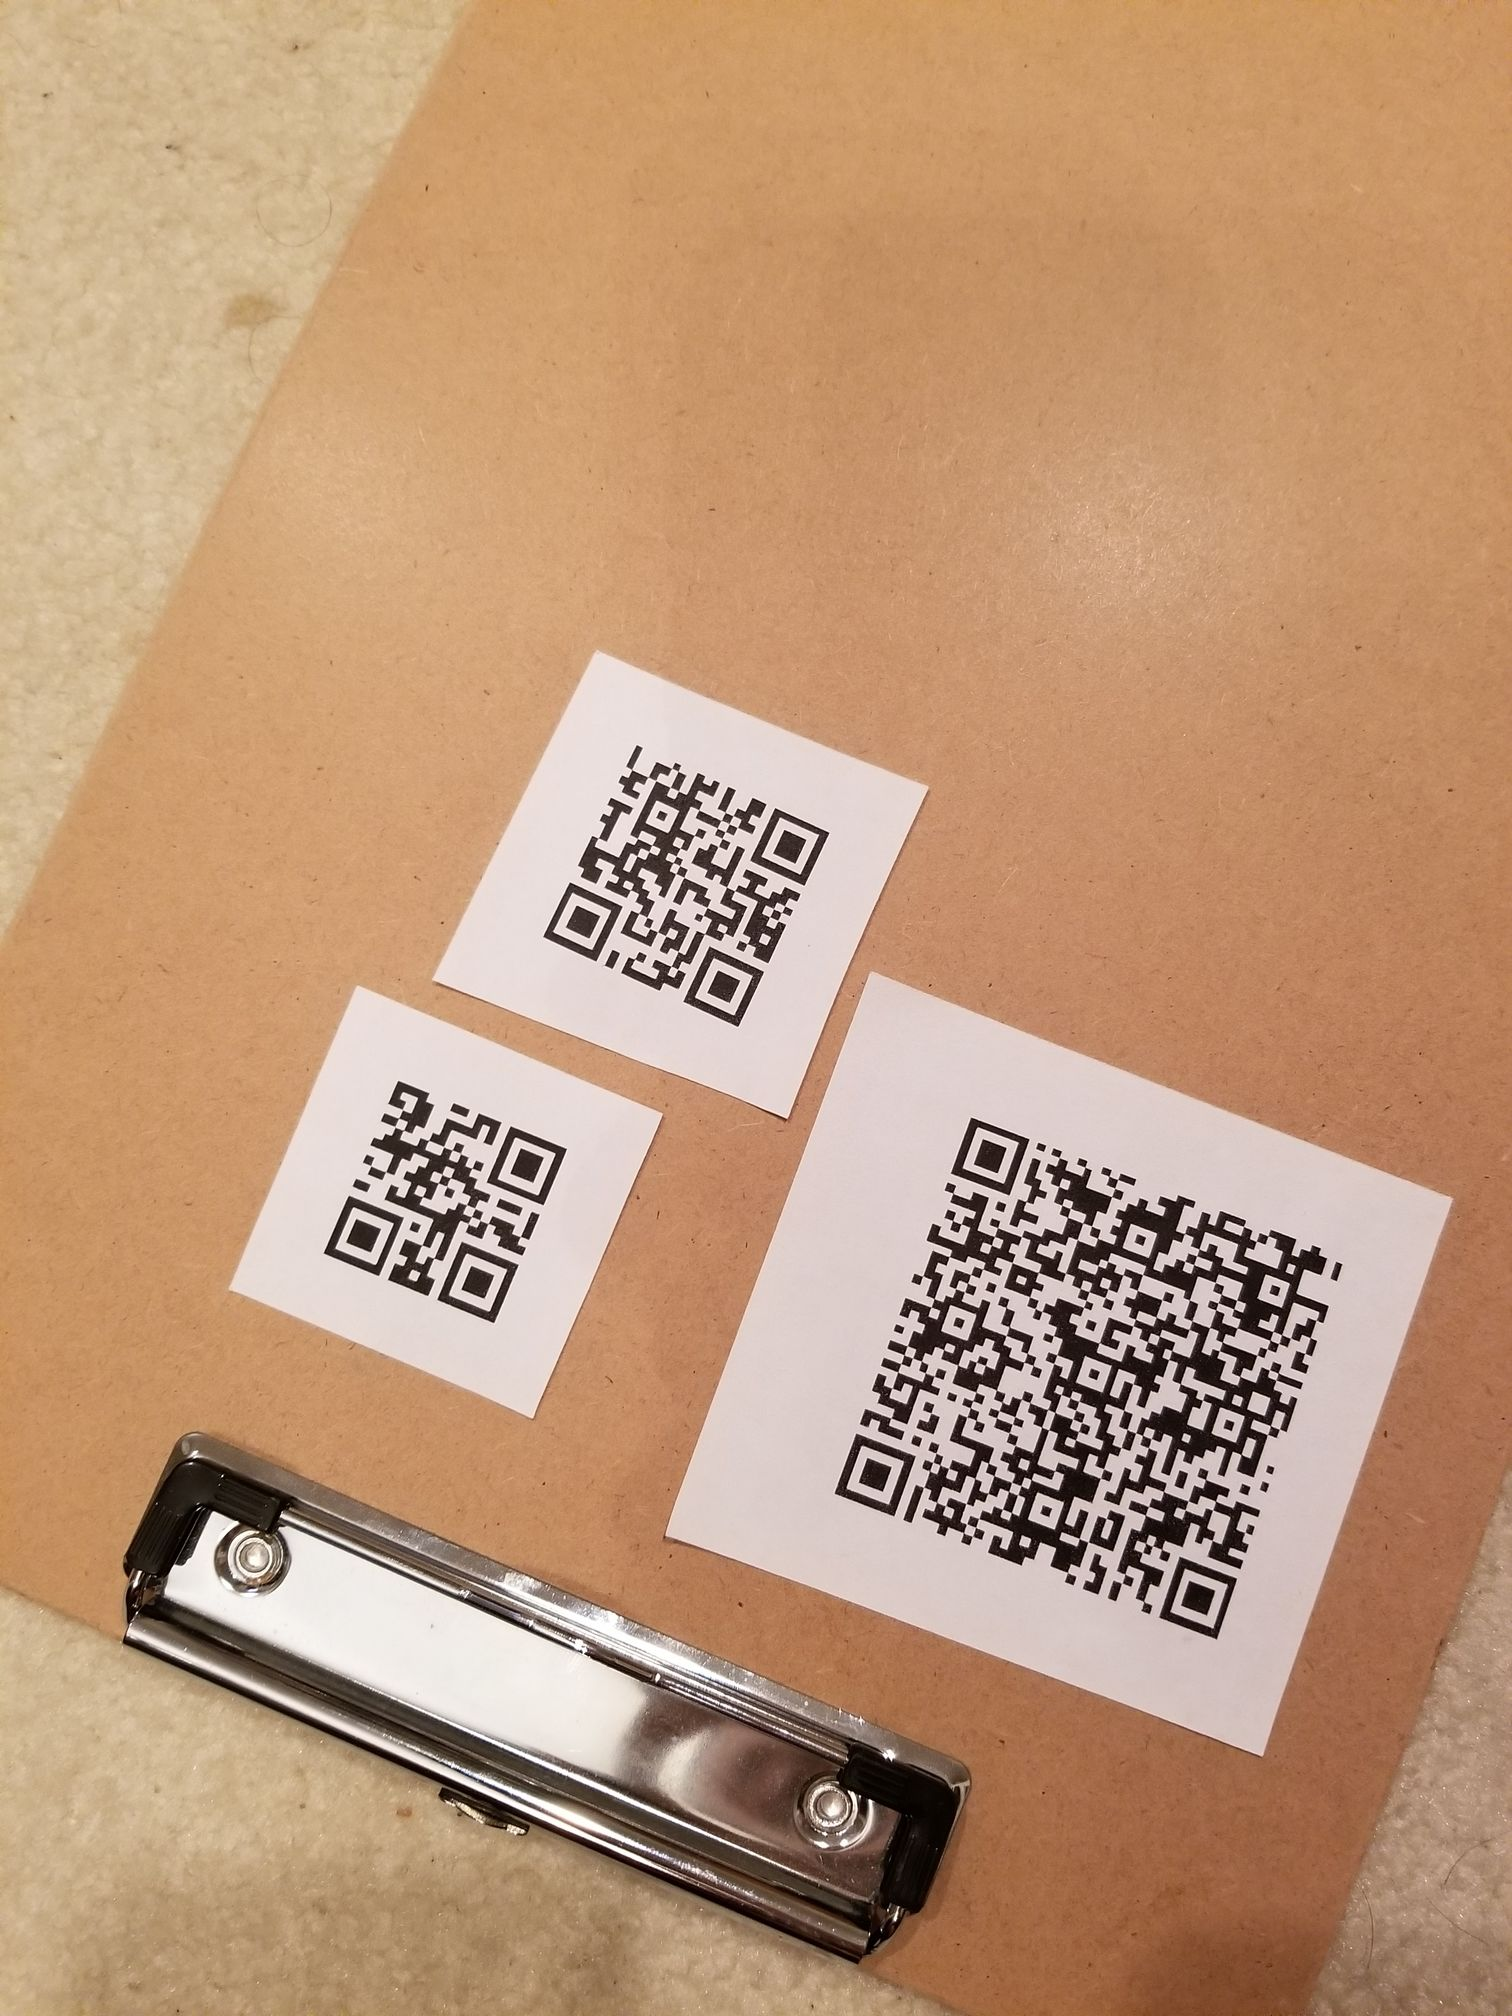QR_CODE: (815, 1083, 1371, 1683), (523, 695, 839, 1051), (291, 1057, 581, 1341)
